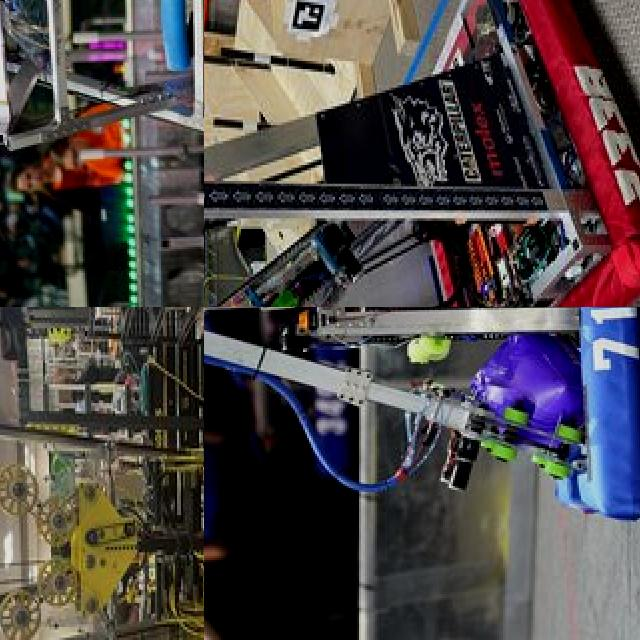FRC-Robots: (204, 0, 640, 307), (204, 307, 639, 590), (0, 307, 204, 640), (0, 0, 204, 224)
